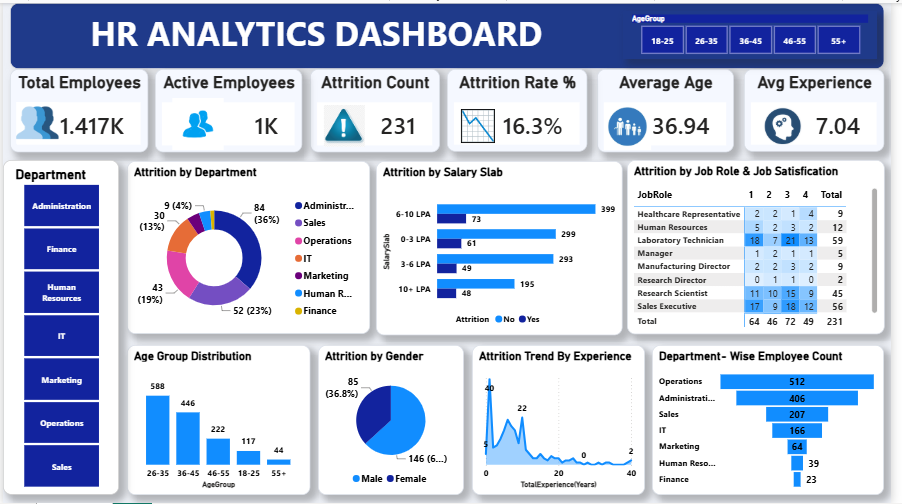

Layout of this report page (visuals, bound fields, positions):
{"tool":"powerbi","page":{"name":"Page 1","canvas":[1280,720],"ordinal":0},"visuals":[{"type":"textbox","box":[9.8,0,1259,95.1],"z":0},{"type":"cardVisual","title":"Total Employees","fields":{"Data":["CountNonNull(HR_Analytics-4.EmpID)"]},"box":[10.1,95,198.7,119.5],"z":1000},{"type":"cardVisual","title":"Average Age","fields":{"Data":["Avg(HR_Analytics-4.Age)"]},"box":[855,95,196.7,120],"z":2000},{"type":"cardVisual","title":"Attrition Count","fields":{"Data":["Sum(HR_Analytics-4.Attrition Count)"]},"box":[441.7,95,186.7,120],"z":3000},{"type":"cardVisual","title":"Active Employees","fields":{"Data":["Sum(HR_Analytics-4.EmployeeCount)"]},"box":[218.3,95,211.7,120],"z":4000},{"type":"cardVisual","title":"Avg Experience","fields":{"Data":["Avg(HR_Analytics-4.YearsatCompany)"]},"box":[1067,95,201.6,119.3],"z":5000},{"type":"cardVisual","title":"Attrition Rate %","fields":{"Data":["HR_Analytics-4.Attrition Rate %"]},"box":[640,95,201.6,119.3],"z":6000},{"type":"image","box":[0,142.6,99.4,60.5],"z":7000},{"type":"image","box":[845.3,144,108,67.7],"z":8000},{"type":"image","box":[1068.5,142.6,109.4,69.1],"z":9000},{"type":"image","box":[442.1,146.9,99.4,60.5],"z":10000},{"type":"image","box":[649.4,152.6,69.1,49],"z":11000},{"type":"image","box":[208.8,136.8,144,74.9],"z":12000},{"type":"donutChart","title":"Attrition by Department","fields":{"Category":["HR_Analytics-4.Department"],"Y":["Sum(HR_Analytics-4.Attrition Count)"]},"box":[179,228,350,249],"z":13000},{"type":"clusteredBarChart","title":"Attrition by Salary Slab","fields":{"Category":["HR_Analytics-4.SalarySlab"],"Y":["CountNonNull(HR_Analytics-4.EmpID)"],"Series":["HR_Analytics-4.Attrition"]},"box":[537,227,355,251],"z":14000},{"type":"pivotTable","title":"Attrition by Job Role & Job Satisfication","fields":{"Rows":["HR_Analytics-4.JobRole"],"Columns":["HR_Analytics-4.JobSatisfaction"],"Values":["Sum(HR_Analytics-4.Attrition Count)"]},"box":[898.7,226.8,371,251],"z":15000},{"type":"columnChart","title":"Age Group Distribution ","fields":{"Category":["HR_Analytics-4.AgeGroup"],"Y":["Sum(HR_Analytics-4.EmployeeCount)"]},"box":[178.7,491.8,263.9,216.4],"z":16000},{"type":"pieChart","title":"Attrition by Gender","fields":{"Category":["HR_Analytics-4.Gender"],"Y":["Sum(HR_Analytics-4.Attrition Count)"]},"box":[454.1,491.8,209.8,216.4],"z":17000},{"type":"areaChart","title":"Attrition Trend By Experience","fields":{"Category":["HR_Analytics-4.TotalExperience(Years)"],"Y":["Sum(HR_Analytics-4.Attrition Count)"]},"box":[675.4,492,249.2,216.4],"z":18000},{"type":"funnel","title":"Department- Wise Employee Count","fields":{"Category":["HR_Analytics-4.Department"],"Y":["CountNonNull(HR_Analytics-4.EmpID)"]},"box":[934.4,491.8,334.4,216.4],"z":19000},{"type":"slicer","fields":{"Values":["HR_Analytics-4.Department"]},"box":[0,226.2,167.2,482],"z":21000},{"type":"slicer","fields":{"Values":["HR_Analytics-4.AgeGroup"]},"box":[892.8,11.5,365.8,69.1],"z":21001}]}

Visuals, with their boxes in screenshot pixels (x1, y1, x2, y2), scaled from the page's 1280x720 canvas onto the 902x504 screenshot:
textbox: 7/0/894/67
"Total Employees" cardVisual: 7/66/147/150
"Average Age" cardVisual: 603/66/741/150
"Attrition Count" cardVisual: 311/66/443/150
"Active Employees" cardVisual: 154/66/303/150
"Avg Experience" cardVisual: 752/66/894/150
"Attrition Rate %" cardVisual: 451/66/593/150
image: 0/100/70/142
image: 596/101/672/148
image: 753/100/830/148
image: 312/103/382/145
image: 458/107/506/141
image: 147/96/249/148
"Attrition by Department" donutChart: 126/160/373/334
"Attrition by Salary Slab" clusteredBarChart: 378/159/629/335
"Attrition by Job Role & Job Satisfication" pivotTable: 633/159/895/334
"Age Group Distribution " columnChart: 126/344/312/496
"Attrition by Gender" pieChart: 320/344/468/496
"Attrition Trend By Experience" areaChart: 476/344/652/496
"Department- Wise Employee Count" funnel: 658/344/894/496
slicer - HR_Analytics-4.Department: 0/158/118/496
slicer - HR_Analytics-4.AgeGroup: 629/8/887/56
